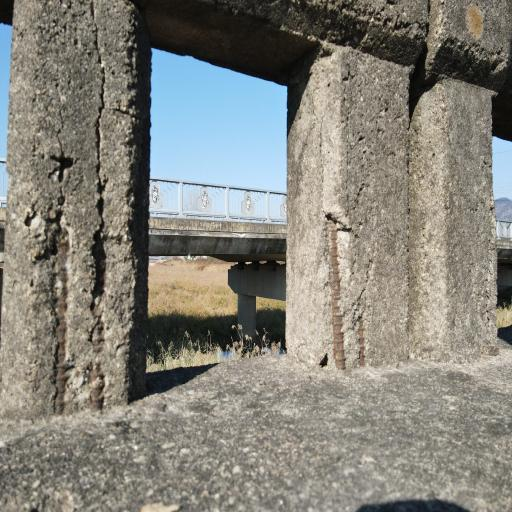exposed_rebar: (88, 244, 106, 411), (54, 236, 69, 412), (328, 219, 345, 370), (358, 316, 365, 365)
spalling: (326, 212, 352, 368)
